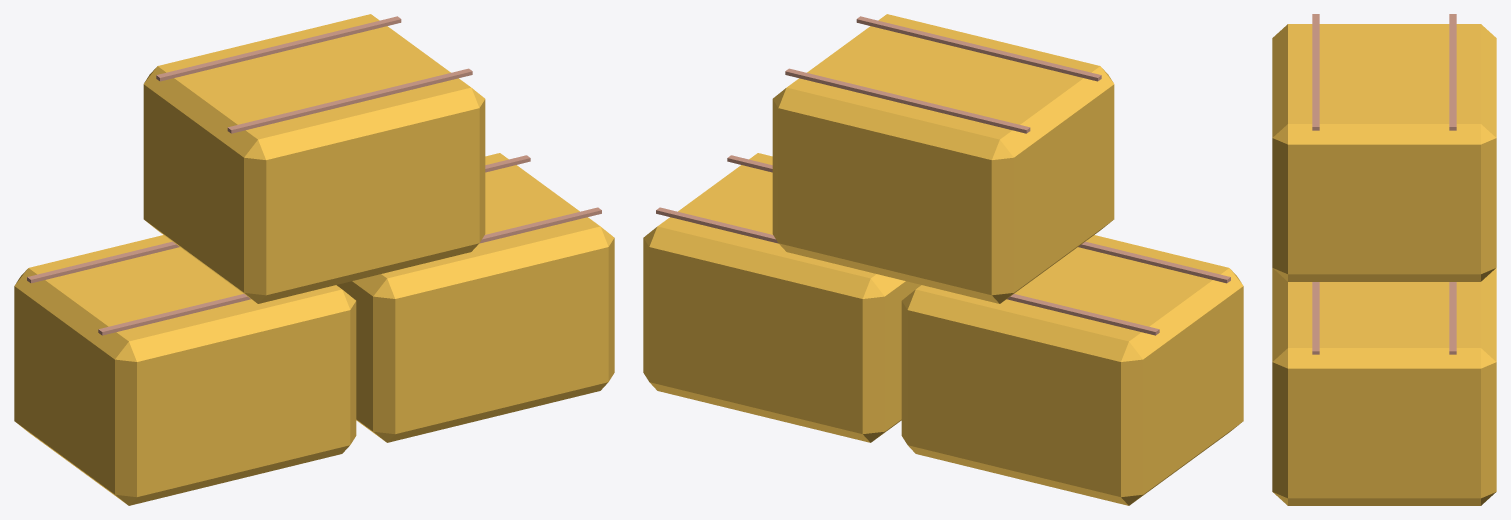
3 views of the same model, side by side, from view 1: azimuth 30°, elevation 25°; view 2: azimuth 150°, elevation 25°; view 3: azimuth 270°, elevation 25° (orthographic). The views are drawn at different scales.
Visible parts, largest first — view 1: Hay bale.002, Hay bale, Hay bale.001, Bale twine.004, Bale twine.005, Bale twine, Bale twine.001, Bale twine.002; view 2: Hay bale.002, Hay bale, Hay bale.001, Bale twine.004, Bale twine.005, Bale twine, Bale twine.001, Bale twine.003; view 3: Hay bale.002, Hay bale.001, Bale twine.004, Bale twine.005, Bale twine.002, Bale twine.003.
Part boxes in pixels (<box>): Hay bale.002: <box>143,14,485,303</box>; Hay bale: <box>14,235,356,505</box>; Hay bale.001: <box>336,153,614,442</box>; Bale twine.004: <box>227,68,472,133</box>; Bale twine.005: <box>156,16,401,81</box>; Bale twine: <box>98,294,250,335</box>; Bale twine.001: <box>27,241,179,283</box>; Bale twine.002: <box>479,207,601,243</box>; Hay bale.002: <box>772,14,1114,303</box>; Hay bale: <box>901,235,1243,505</box>; Hay bale.001: <box>643,153,921,442</box>; Bale twine.004: <box>856,16,1101,81</box>; Bale twine.005: <box>785,68,1030,133</box>; Bale twine: <box>1078,241,1230,283</box>; Bale twine.001: <box>1007,294,1159,335</box>; Bale twine.003: <box>656,207,778,243</box>; Hay bale.002: <box>1272,24,1496,281</box>; Hay bale.001: <box>1272,268,1496,505</box>; Bale twine.004: <box>1312,14,1319,130</box>; Bale twine.005: <box>1449,14,1456,130</box>; Bale twine.002: <box>1312,282,1319,354</box>; Bale twine.003: <box>1449,282,1456,354</box>.
Size of the model in its own units: 0.89 by 0.576 by 0.36.
Materials: 1 (1 with a texture image).
